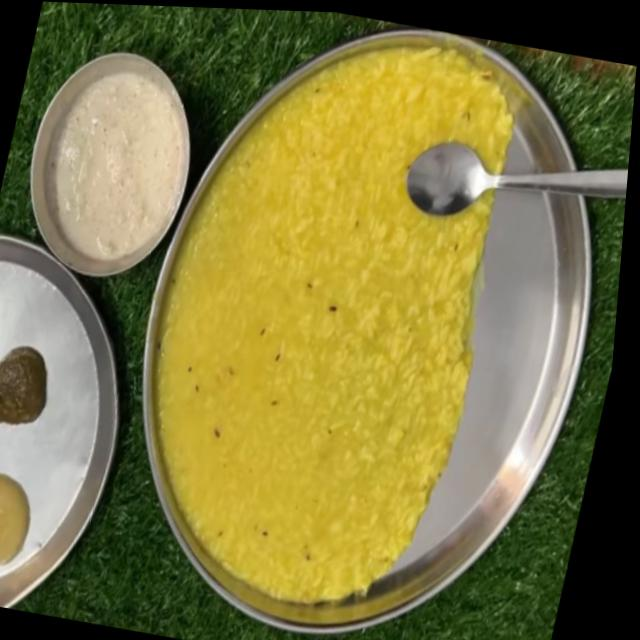GREEN CHUTNEY: (0, 344, 49, 424)
VEGGIES: (0, 472, 31, 566)
WHITE CHUTNEY: (40, 72, 183, 263)
